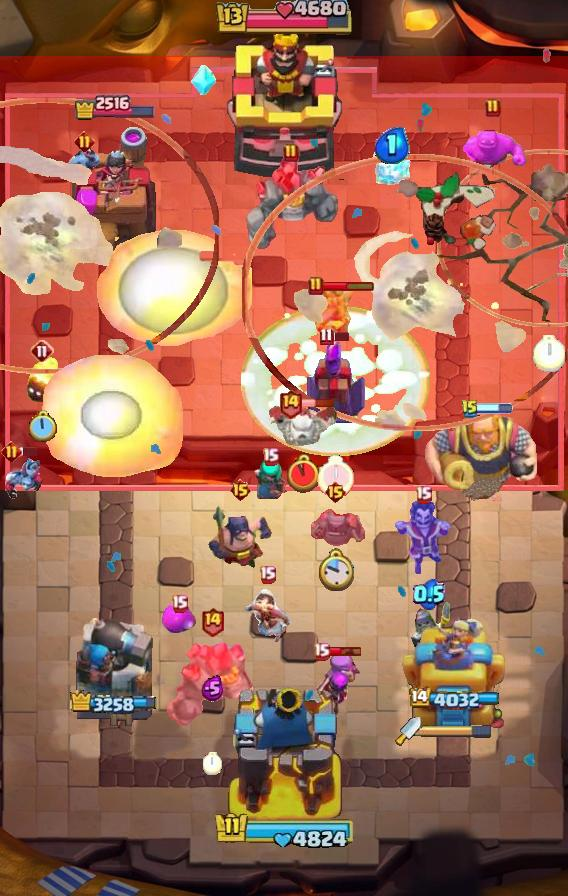bar: (402, 615, 507, 731)
bat: (371, 148, 413, 190)
battle-ram: (305, 509, 365, 549)
bomber: (24, 355, 60, 405)
cannoneer-tower: (242, 153, 340, 255), (167, 640, 257, 728)
clock: (210, 810, 358, 852), (213, 0, 355, 38)
electro-spirit: (375, 127, 410, 164), (413, 578, 445, 610), (200, 674, 223, 701)
elixir: (317, 548, 354, 593), (317, 455, 354, 497), (287, 453, 320, 493), (533, 335, 565, 372), (27, 410, 57, 444), (202, 753, 221, 776)
emote: (321, 280, 375, 292), (327, 645, 363, 657), (477, 402, 513, 413), (300, 398, 335, 408), (331, 330, 351, 342), (19, 446, 39, 457)
giant-skeleton: (423, 405, 539, 505)
goblin-barrel: (301, 283, 359, 345)
guard: (437, 148, 568, 328)
ice-spirit-evolution-symbol: (302, 338, 366, 426)
king-tower: (224, 29, 344, 181), (223, 680, 345, 826)
king-tower-bar: (421, 724, 493, 738)
lumberjack: (392, 501, 454, 577)
miner: (161, 605, 197, 635)
mini-pekka: (266, 400, 340, 448)
monk: (206, 501, 274, 571)
pad_2: (190, 65, 216, 97)
phoenix-big: (240, 307, 431, 456)
princess: (405, 597, 453, 657)
queen-tower: (72, 122, 156, 256)
rascal-girl: (308, 650, 362, 720)
royal-delivery: (1, 457, 45, 503), (65, 146, 103, 186)
royal-ghost: (242, 154, 568, 431), (1, 98, 219, 374)
selected: (69, 690, 158, 717), (72, 93, 155, 121), (407, 688, 499, 712)
skeleton-dragon: (241, 586, 293, 644)
text: (277, 389, 302, 420), (199, 606, 224, 637), (30, 339, 54, 363), (228, 478, 251, 502), (324, 480, 347, 504), (73, 131, 94, 153), (2, 441, 23, 462), (461, 399, 479, 419), (261, 447, 279, 466), (415, 484, 433, 503), (259, 565, 277, 583), (313, 643, 330, 662), (485, 98, 501, 118), (283, 143, 299, 163), (308, 276, 324, 296), (171, 595, 188, 613), (319, 327, 334, 345)
tornado: (458, 122, 528, 180)
tower-bar: (71, 611, 157, 731)
valkyrie: (96, 227, 252, 349), (34, 355, 190, 477)
witch: (251, 459, 289, 501)
